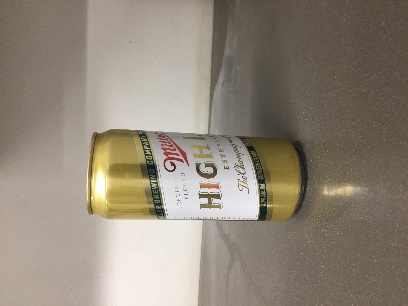ML: (62, 92, 221, 161)
